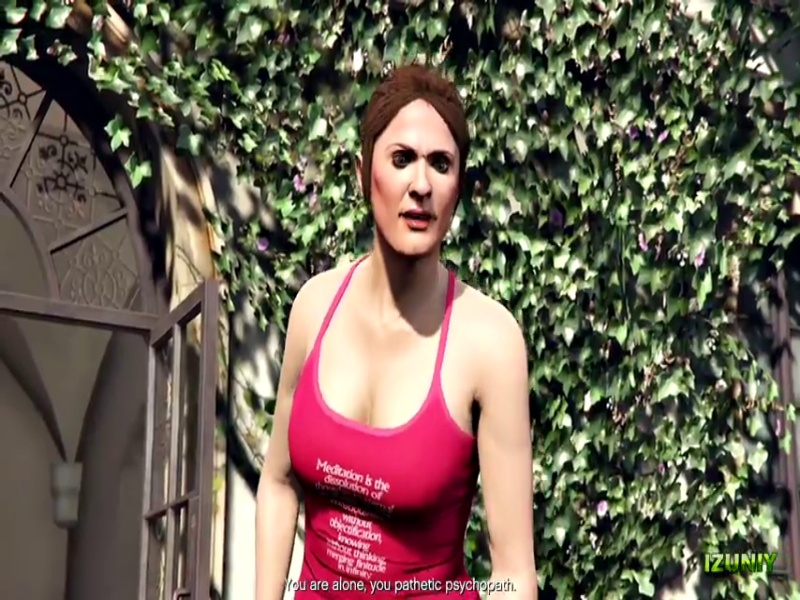human: (267, 62, 554, 593)
